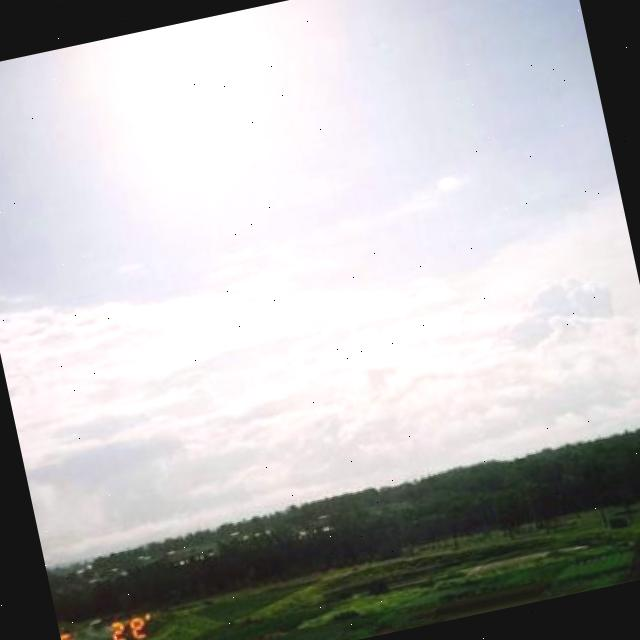Cs: (1, 1, 640, 536)
